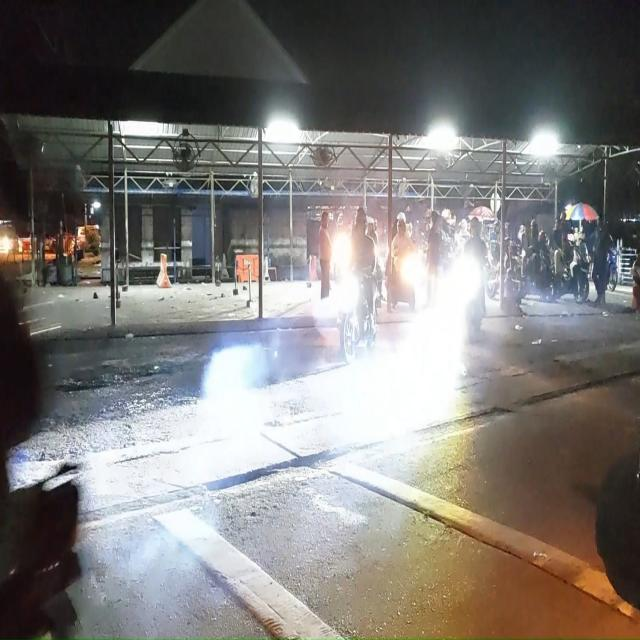Golongan II: (0, 465, 82, 638), (439, 254, 482, 340), (338, 270, 377, 364), (554, 243, 590, 304), (388, 250, 424, 310), (521, 248, 554, 302), (486, 239, 500, 300), (608, 245, 618, 292)
